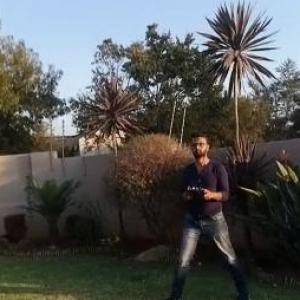follow: (160, 123, 258, 299)
